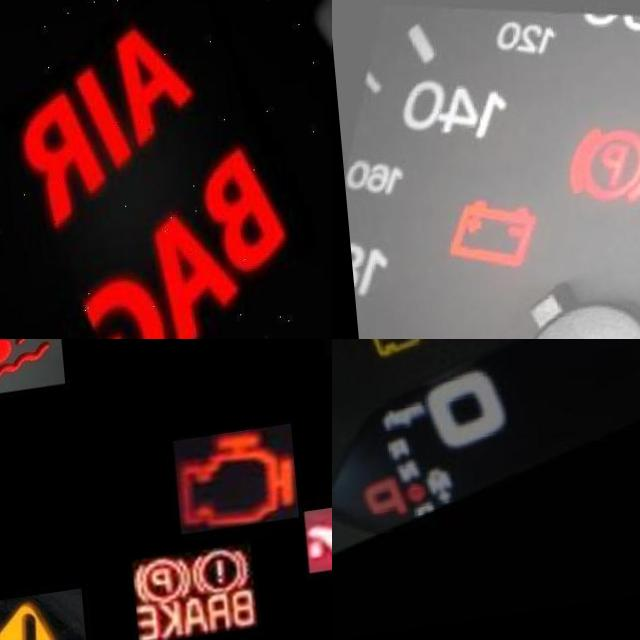Central Warning lamp: (0, 595, 83, 640)
Engine cooling system: (0, 339, 62, 404)
